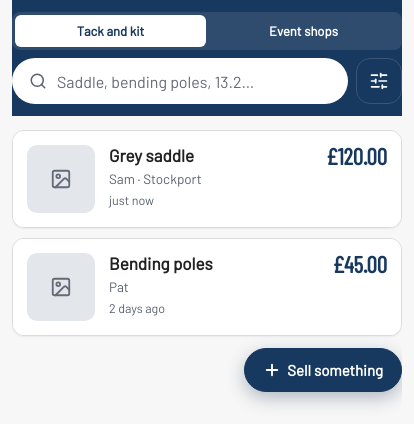
Test: the shop › switches to the event shops, which skip archived events and can be searched
Click the button "Event shops": (304, 31) [208,15,399,47]
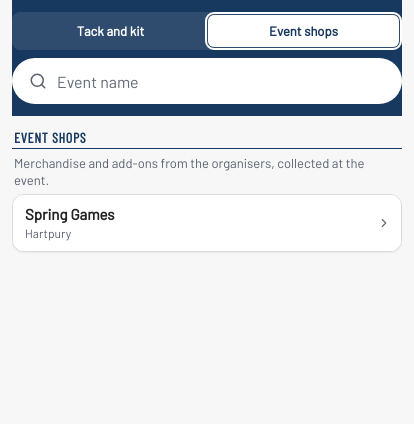
Result: the button "Event shops" is pressed at [208,15,399,47]
In the search field: (221, 81) [57,59,385,103], type "zzz"
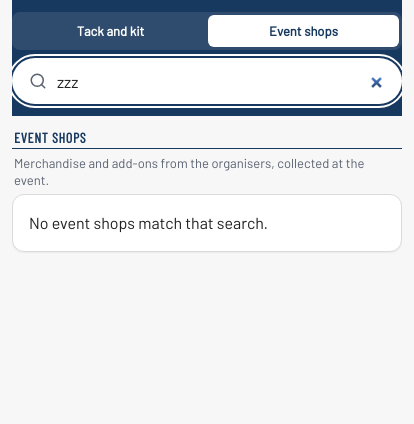
Result: the text "No event shops match that search." is shown at [12,194,402,252]
